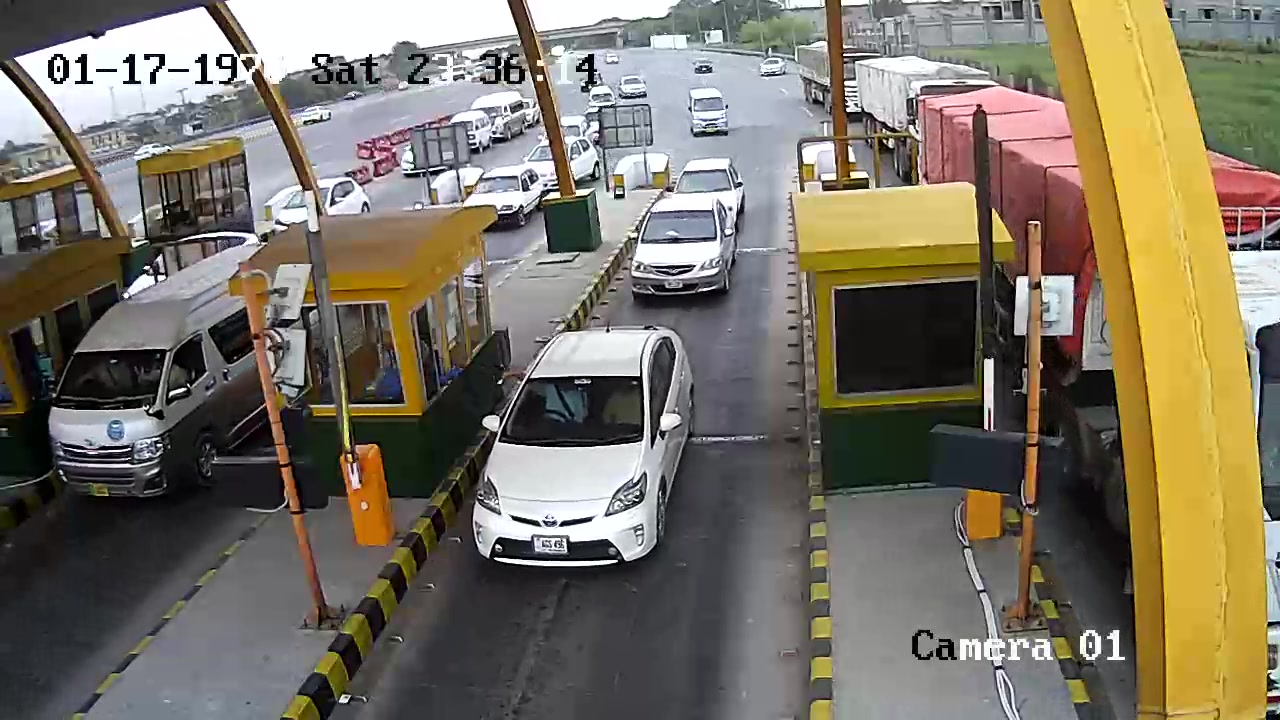F1: (469, 318, 710, 575), (625, 194, 740, 305)
